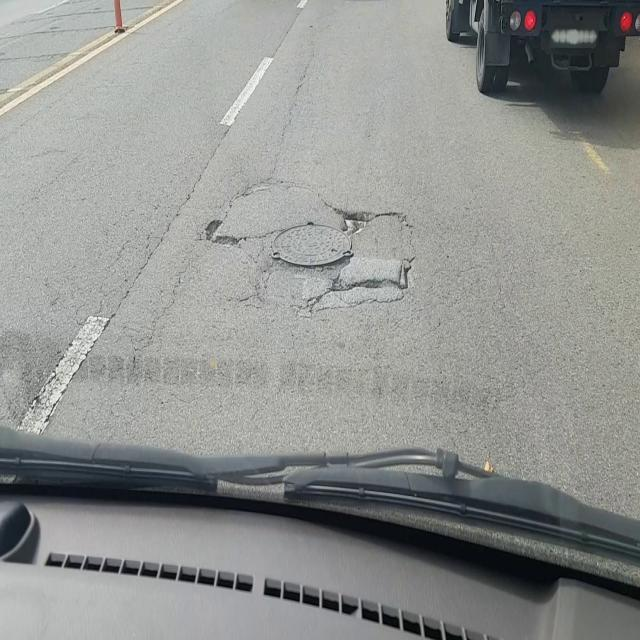pothole: (270, 208, 374, 272)
